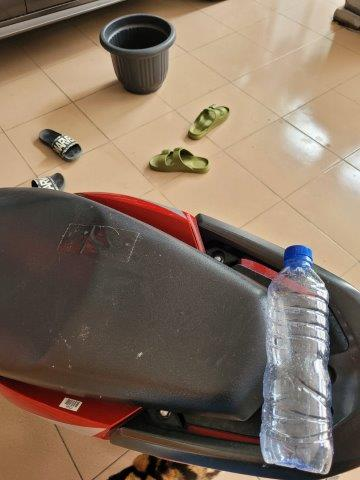botolplastik: (260, 246, 334, 474)
